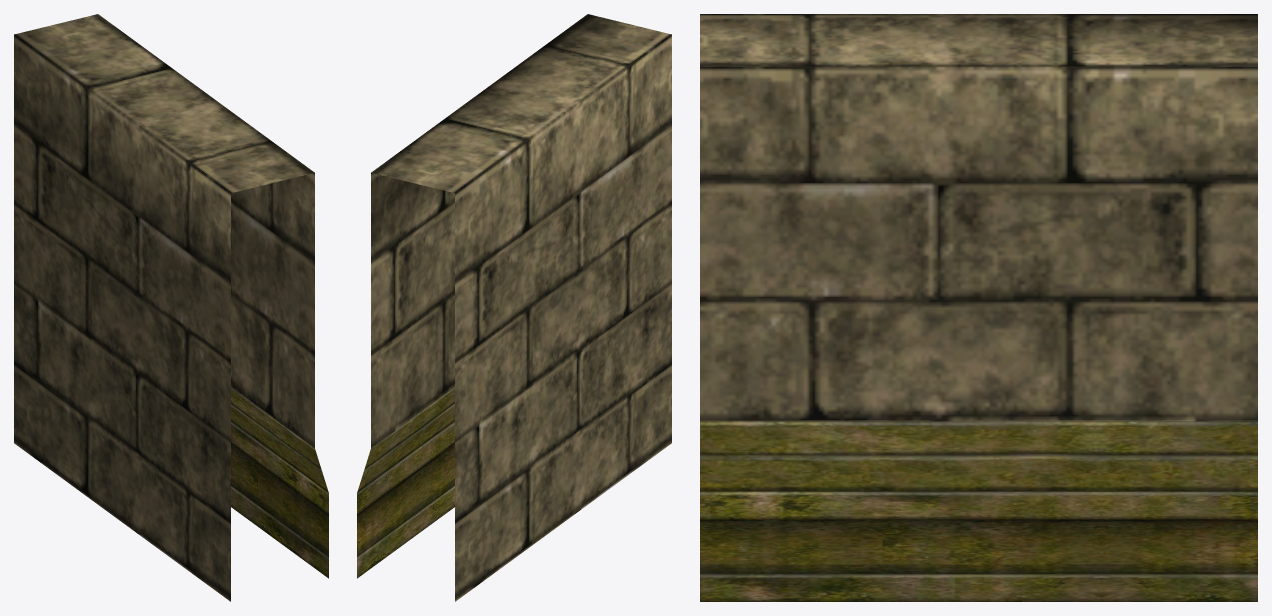
File: ANIMATEDINSTANCES_MAZE_DOOR_003__AI.fbx
3 views of the same model, side by side, from view 1: azimuth 30°, elevation 25°; view 2: azimuth 150°, elevation 25°; view 3: azimuth 270°, elevation 25° (orthographic). The views are drawn at different scales.
Visible parts, largest first — view 1: ANIMATEDINSTANCES_MAZE_DOOR_003__AI; view 2: ANIMATEDINSTANCES_MAZE_DOOR_003__AI; view 3: ANIMATEDINSTANCES_MAZE_DOOR_003__AI.
Boxes of the visible parts, x1,y1,x2,y2 form: ANIMATEDINSTANCES_MAZE_DOOR_003__AI: (14,14,328,601); ANIMATEDINSTANCES_MAZE_DOOR_003__AI: (357,14,671,601); ANIMATEDINSTANCES_MAZE_DOOR_003__AI: (700,14,1257,601).
Bounding box in the file's own units: 9486 × 37861 × 36360.
3 materials, 3 textured.
